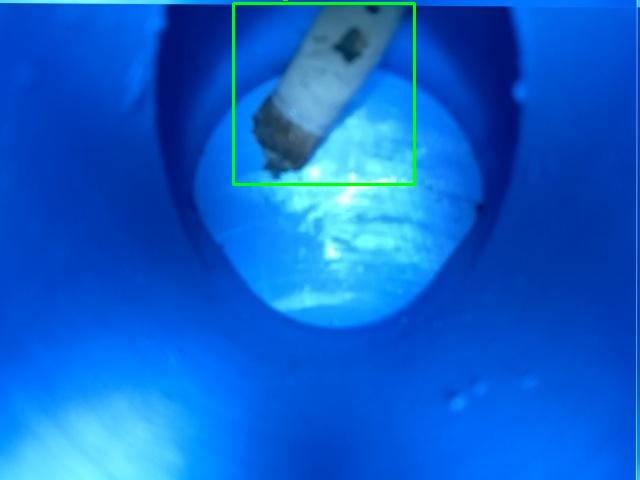megot: (233, 3, 414, 184)
